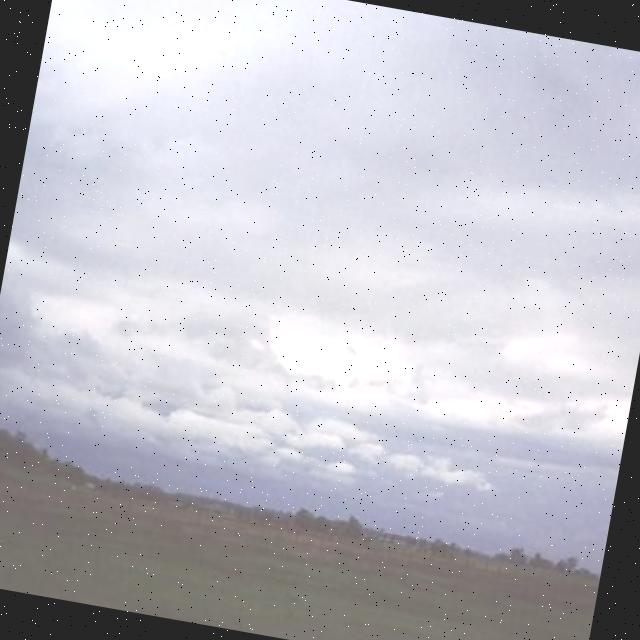St: (1, 1, 640, 533)
